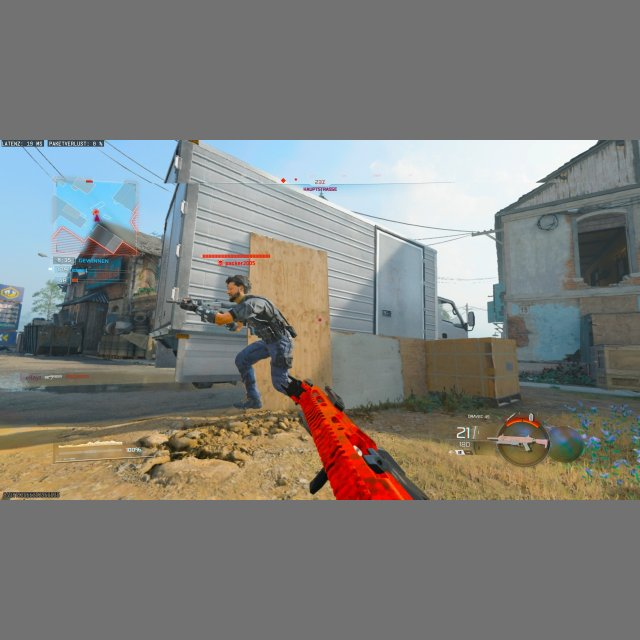head: (225, 274, 250, 302)
player: (189, 274, 295, 410)
